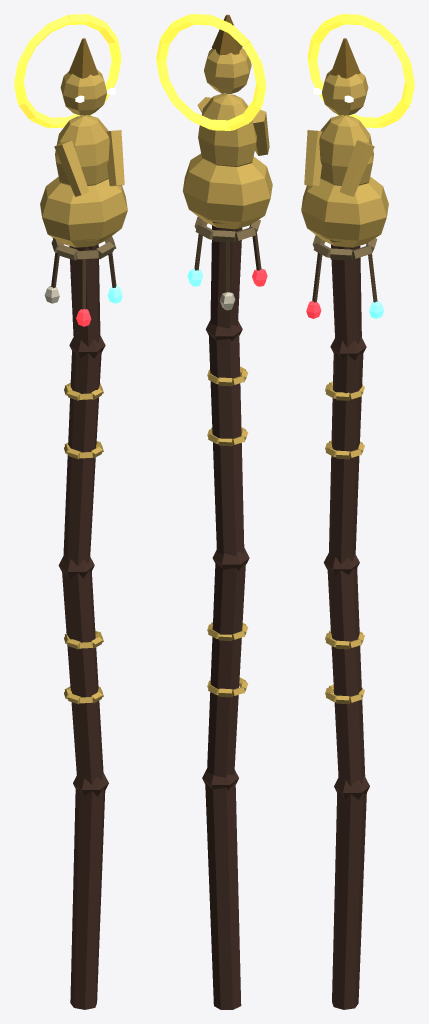
Rendered from relic_staff.glb.
The picture shows the model from 3 angles, left to right: view 1: azimuth 30°, elevation 25°; view 2: azimuth 150°, elevation 25°; view 3: azimuth 330°, elevation 25°; orthographic projection. The views are drawn at different scales.
Visible parts, largest first — view 1: relic_staff; view 2: relic_staff; view 3: relic_staff.
Part boxes in pixels (x1=…): relic_staff: x1=14, y1=14, x2=127, y2=1009; relic_staff: x1=156, y1=14, x2=272, y2=1009; relic_staff: x1=301, y1=14, x2=414, y2=1009.
Size of the model in its own units: 0.3075 by 2.67 by 0.2.
